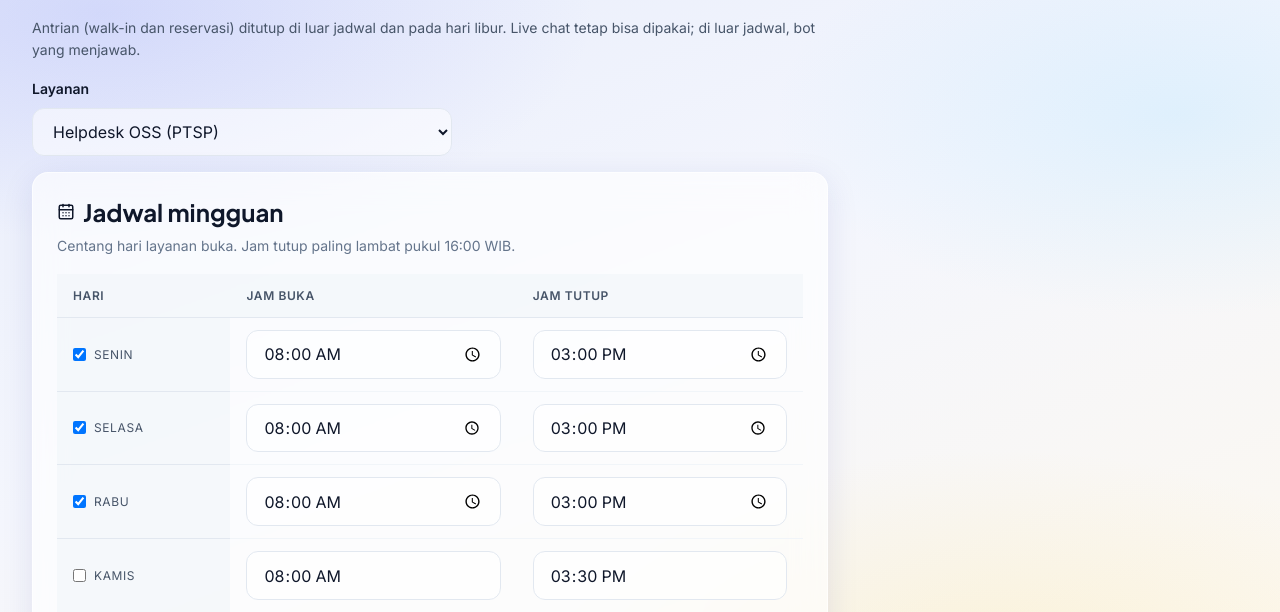
Test: admin jadwal: jadwal_standby + hari libur nasional › jam buka sama dengan atau setelah jam tutup ditolak di klien dengan pesan
Expected: the checkbox labelled "Rabu" is shown, [73, 495, 86, 508]
Replace the text in the time field named "Jam buka Rabu" with "15:00" at (374, 502), box [246, 477, 501, 526]
(page scrolled)
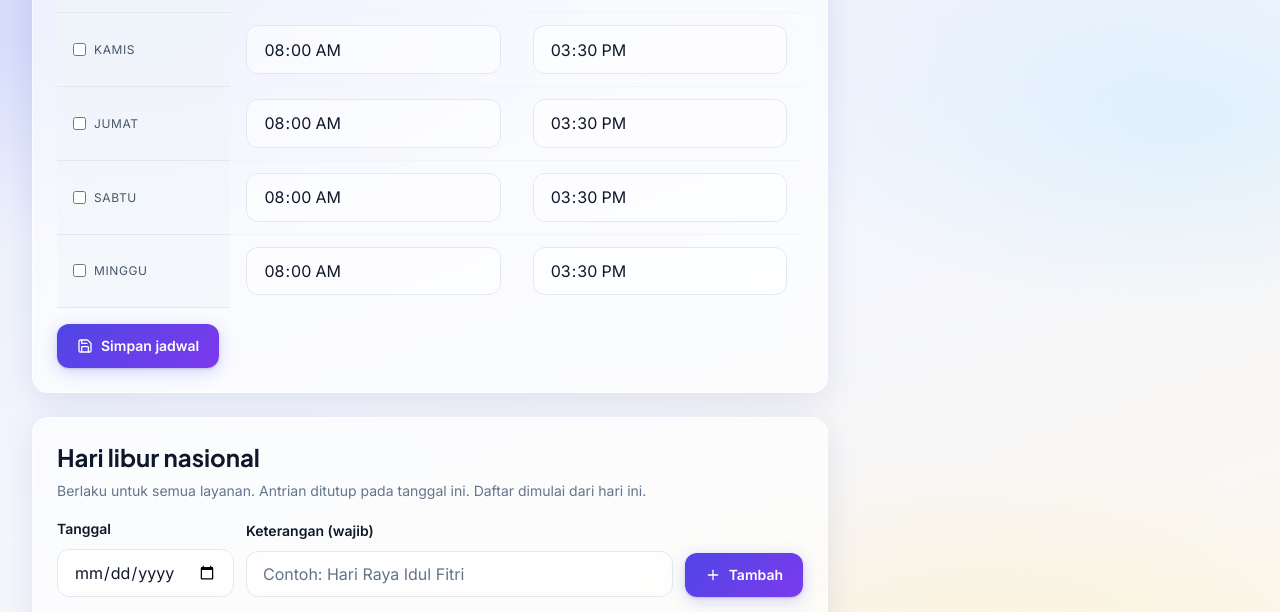
Click the button "Simpan jadwal" at (138, 346), box [57, 324, 219, 368]
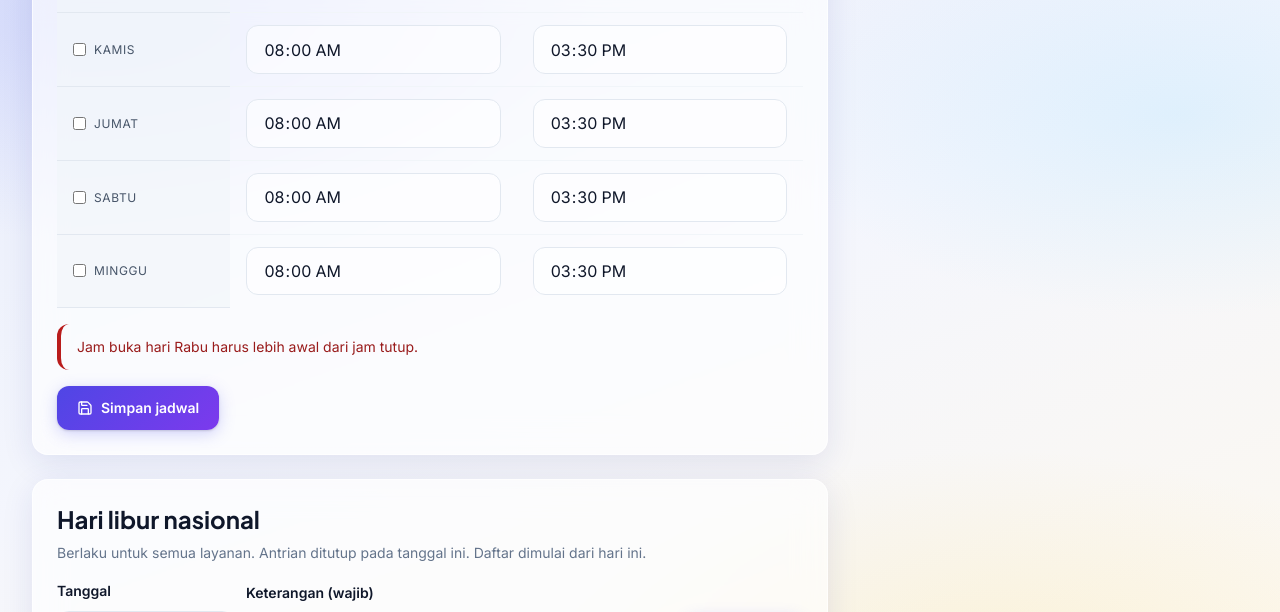
Expected: the message shows "Rabu", [77, 338, 418, 355]
Expected: the message shows "lebih awal", [77, 338, 418, 355]
